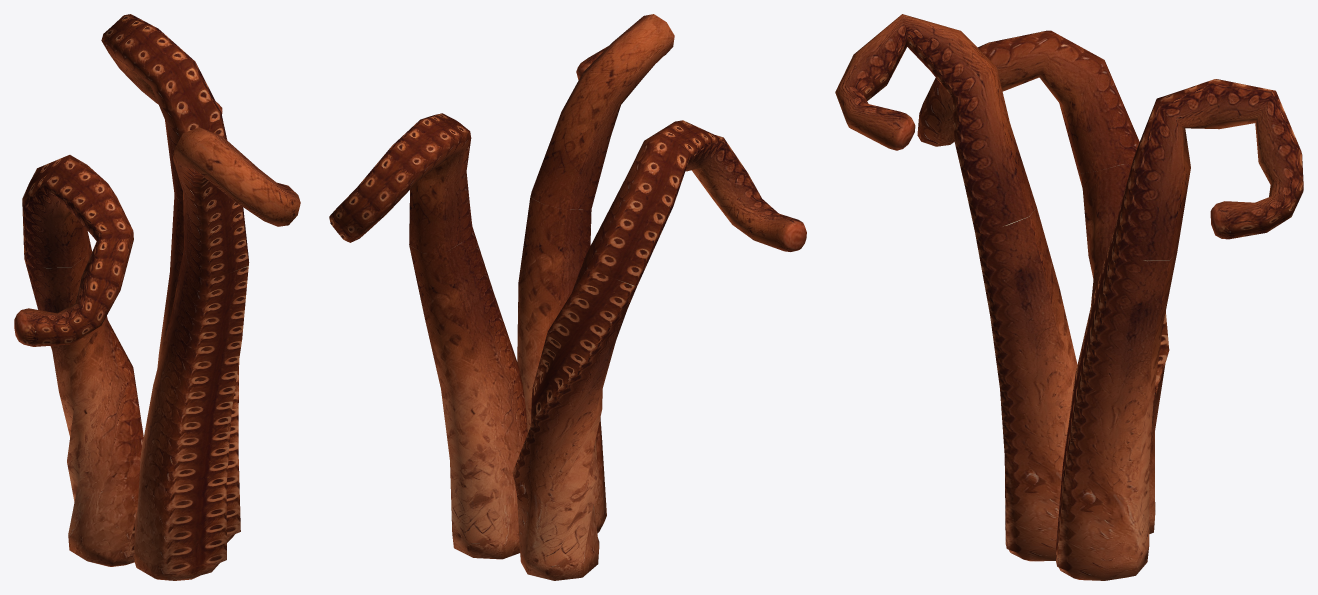
Rendered from ahtapot_kol.fbx.
The picture shows the model from 3 angles, left to right: view 1: azimuth 30°, elevation 25°; view 2: azimuth 150°, elevation 25°; view 3: azimuth 270°, elevation 25°; orthographic projection. The views are drawn at different scales.
Visible parts, largest first — view 1: ahtapot_kol; view 2: ahtapot_kol; view 3: ahtapot_kol.
Part boxes in pixels (x1,y1,x2,y2): ahtapot_kol: [14, 14, 300, 580]; ahtapot_kol: [329, 14, 806, 580]; ahtapot_kol: [835, 14, 1303, 580].
Bounding box in the file's own units: 21.09 × 29.67 × 24.25.
